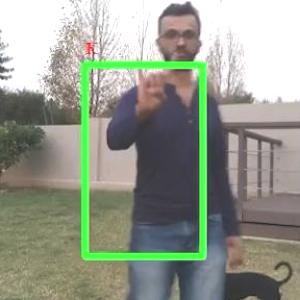takeoff-hand: (130, 52, 179, 109)
